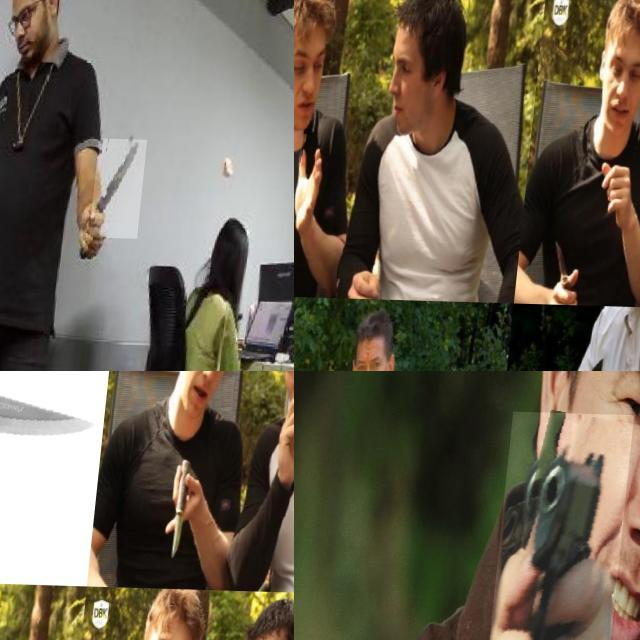-: (0, 371, 108, 464), (99, 136, 154, 236), (168, 450, 207, 565), (553, 227, 590, 302), (294, 129, 316, 221)
gun-knife-thesis - v11 Yolov5 augmented: (488, 409, 639, 640)
